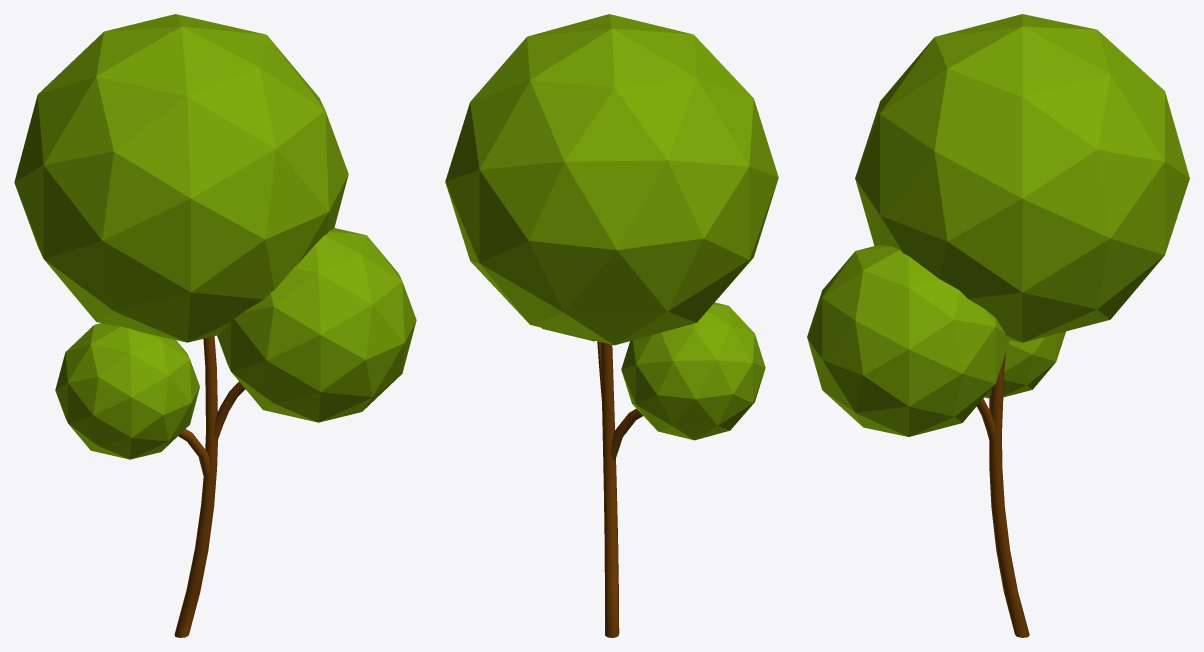
Rendered from TreeSphere.fbx.
3 renders of one model, left to right at view 1: azimuth 30°, elevation 25°; view 2: azimuth 150°, elevation 25°; view 3: azimuth 270°, elevation 25°, orthographic.
Parts seen in each view (by area): view 1: Leaves, Leaves1, Leaves2, Trunk; view 2: Leaves, Leaves2, Trunk; view 3: Leaves, Leaves1, Trunk, Leaves2.
Boxes of the visible parts, x1,y1,x2,y2 form: Leaves: (14,14,348,342); Leaves1: (217,228,416,422); Leaves2: (55,323,199,459); Trunk: (174,336,245,637); Leaves: (445,14,778,345); Leaves2: (621,302,765,440); Trunk: (597,341,642,637); Leaves: (855,14,1189,342); Leaves1: (807,245,1009,436); Trunk: (976,352,1029,637); Leaves2: (984,331,1065,398).
Size of the model in its own units: 545 by 1062 by 606.
